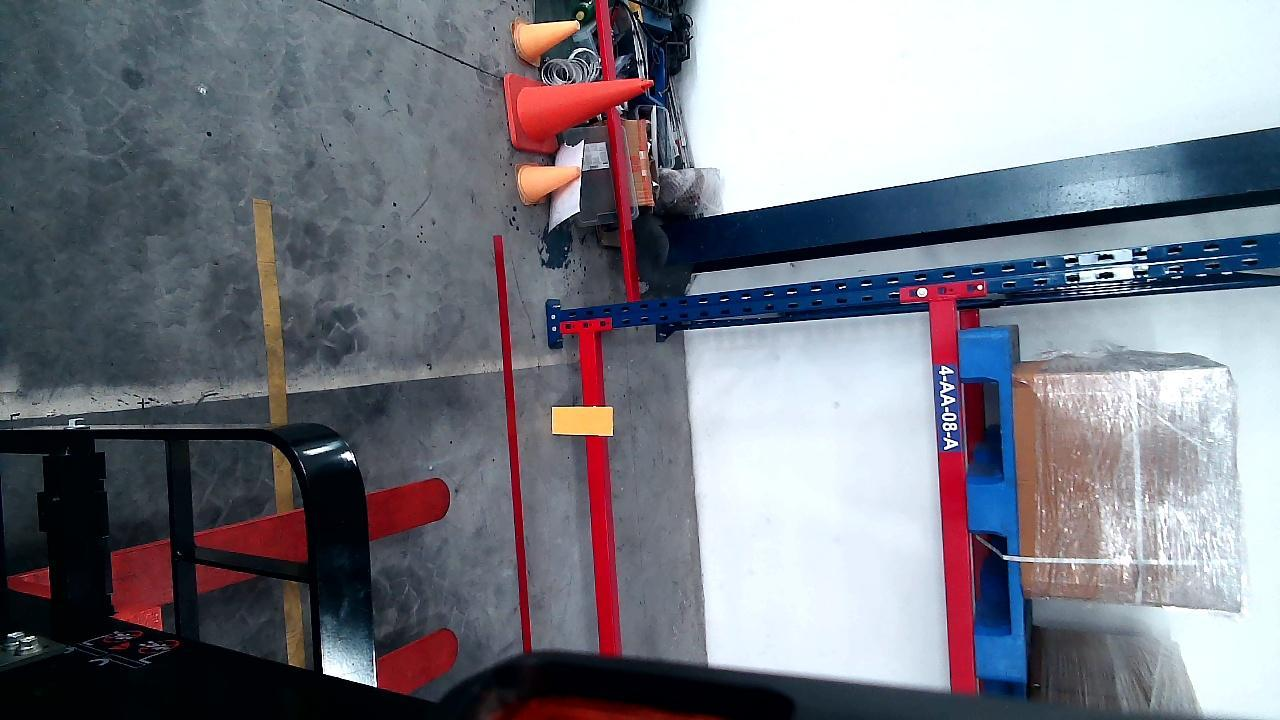red_line: (487, 233, 540, 648)
yellow_line: (248, 194, 310, 671)
